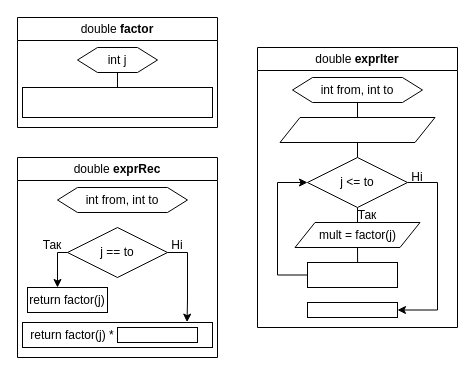
This 475x375 diagram has some shape labels left out. Here are the shapes that lost their labels. From the top down, the centre of each, then its label:
(117,102): return sqrt(pow(j, 2) / (1 + exp(-j)));
(357,129): product = 1, j = from
(352,275): product *= mult
(352,310): return product
(157,334): exprRec (j + 1,to)
